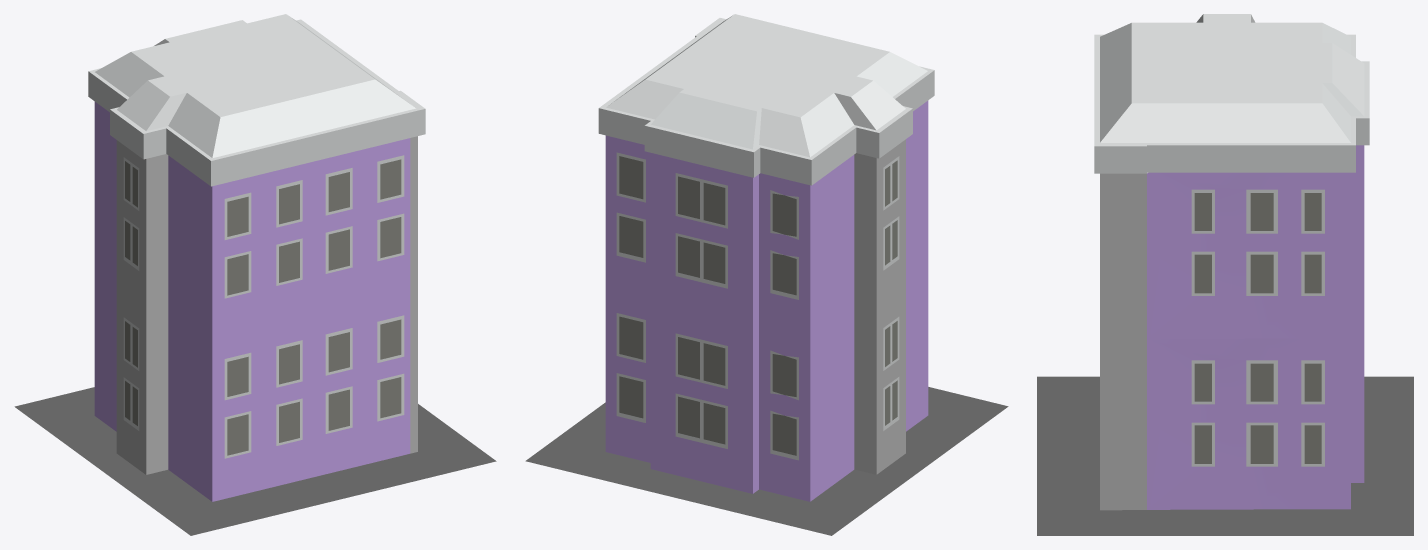
The model's file is Building_2.fbx.
The picture shows the model from 3 angles, left to right: view 1: azimuth 30°, elevation 25°; view 2: azimuth 150°, elevation 25°; view 3: azimuth 270°, elevation 25°; orthographic projection. The views are drawn at different scales.
Visible parts, largest first — view 1: Building_2; view 2: Building_2; view 3: Building_2.
Part boxes in pixels (<box>): Building_2: <box>14,14,496,535</box>; Building_2: <box>525,14,1008,535</box>; Building_2: <box>1037,14,1413,535</box>.
Bounding box in the file's own units: 1 × 1.15 × 1.
Materials: 2 (2 with a texture image).
